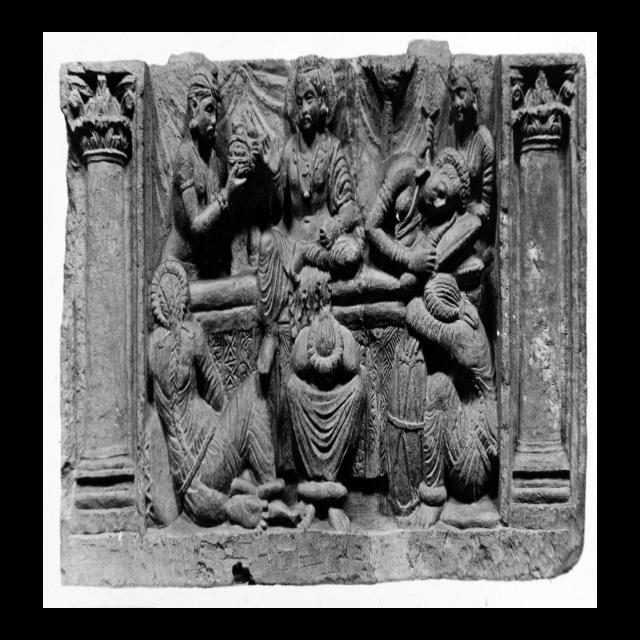buddha-sleeping: (352, 142, 470, 276), (258, 227, 364, 327)
